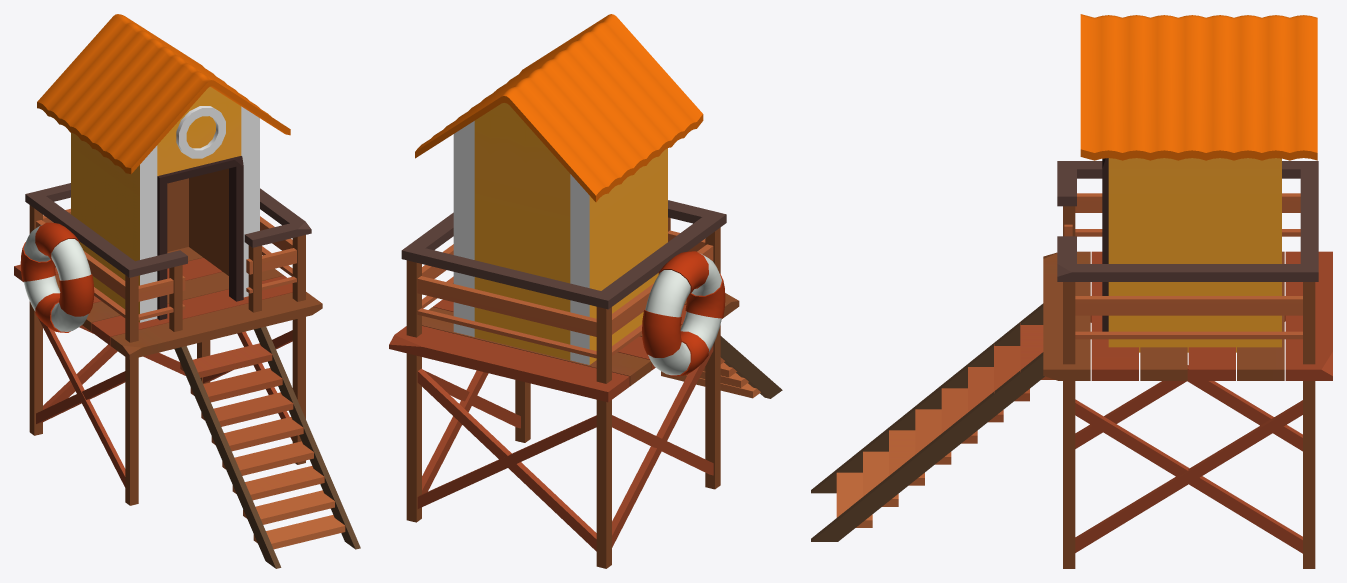
The model's file is cabin-02.glb.
3 renders of one model, left to right at view 1: azimuth 30°, elevation 25°; view 2: azimuth 150°, elevation 25°; view 3: azimuth 270°, elevation 25°, orthographic. The views are drawn at different scales.
Visible parts, largest first — view 1: cabin 02; view 2: cabin 02; view 3: cabin 02.
Boxes of the visible parts, x1,y1,x2,y2 form: cabin 02: (14,14,360,568); cabin 02: (389,14,782,568); cabin 02: (811,14,1332,568).
Size of the model in its own units: 2.27 by 3.95 by 3.73.
Materials: 1 (1 with a texture image).
